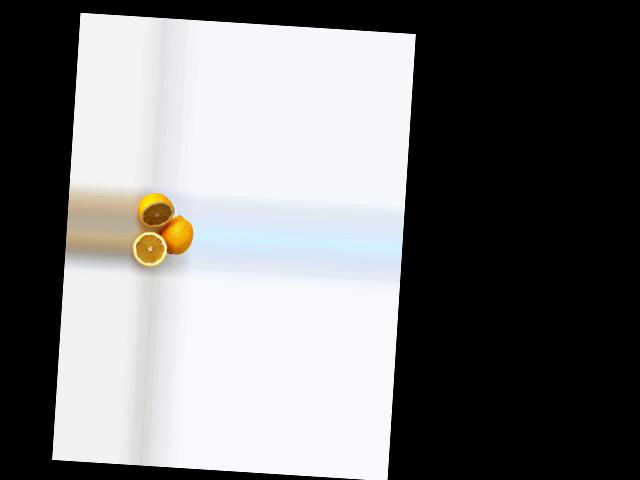lemon: (160, 211, 195, 259)
